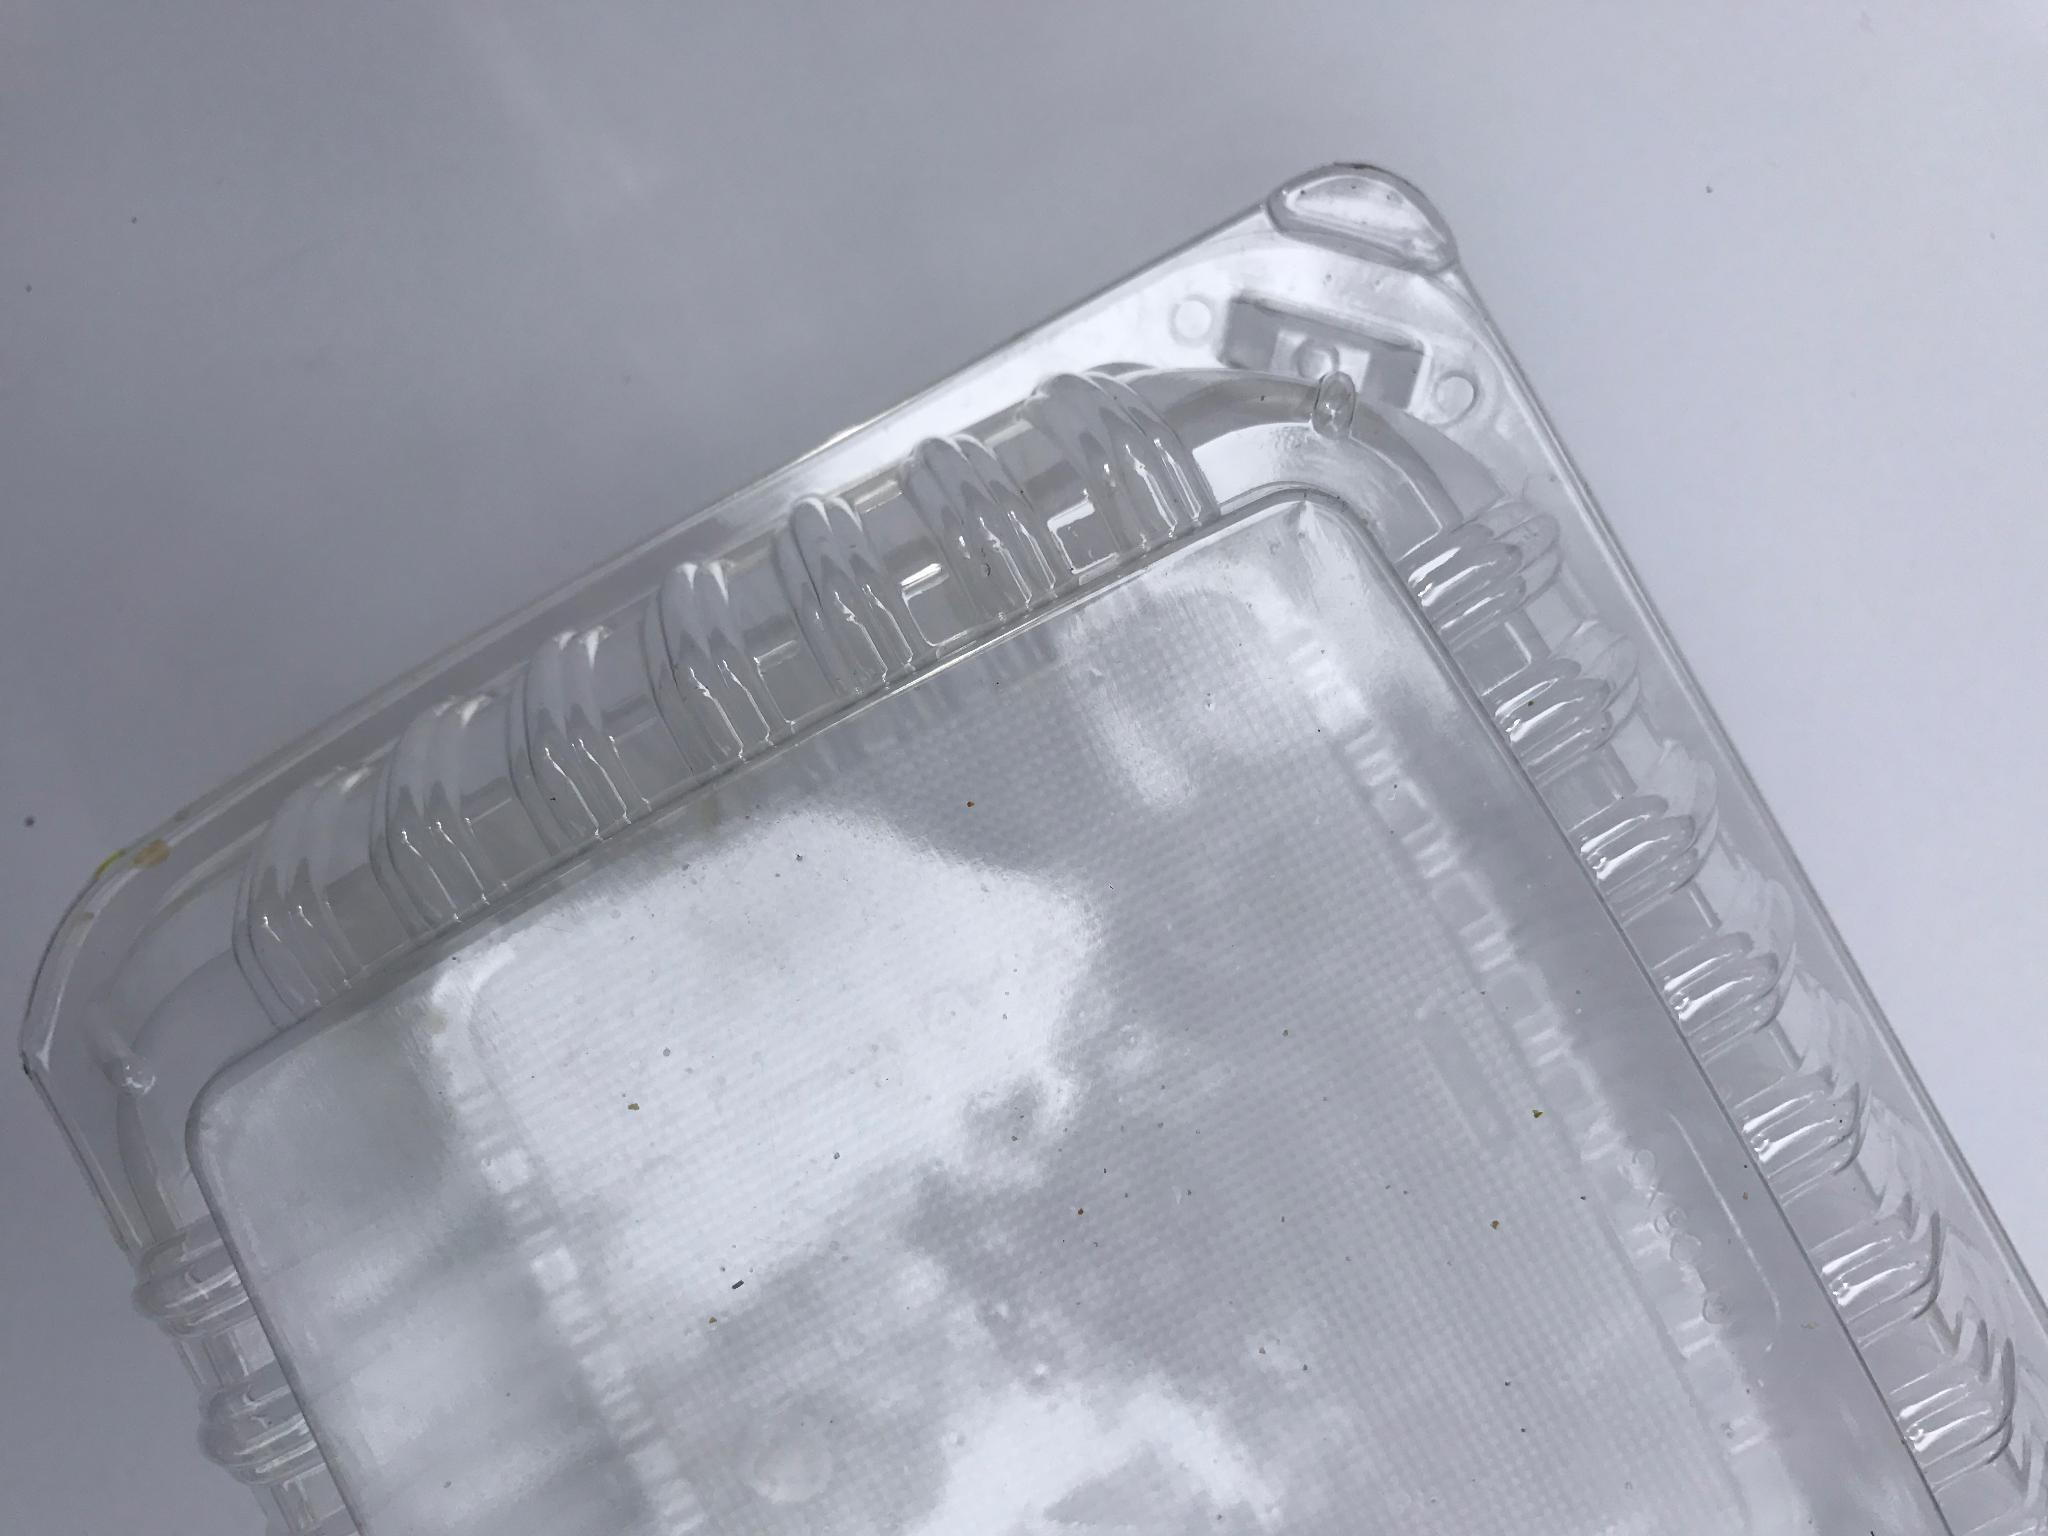Plastic: (18, 131, 2046, 1536)
